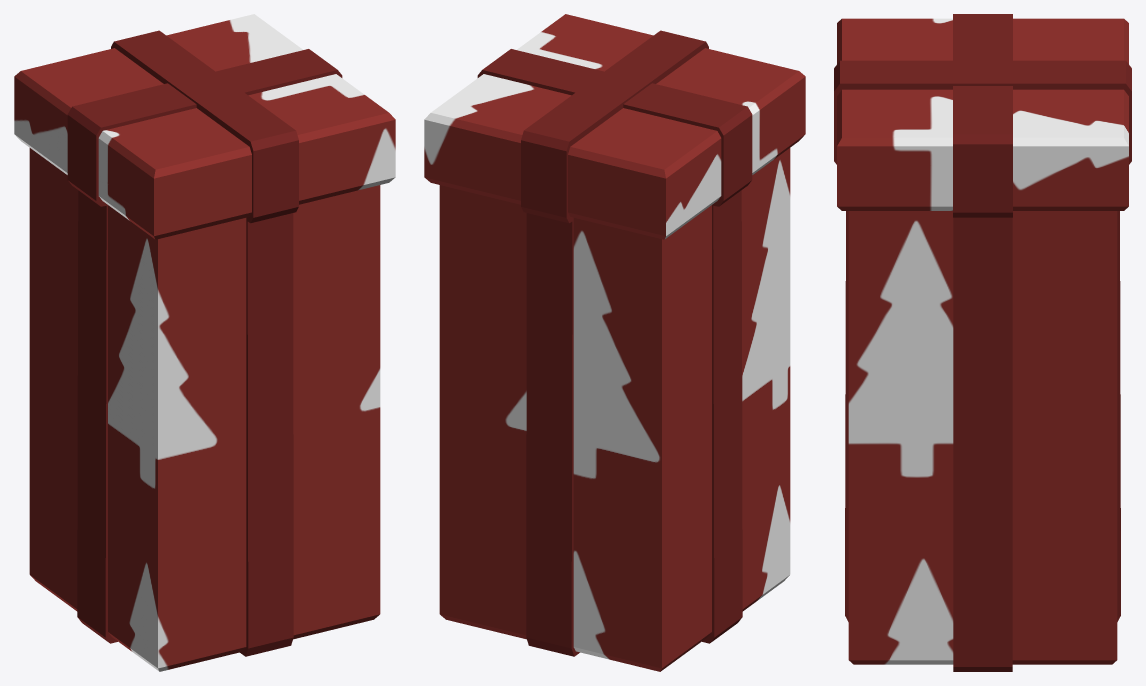
Rendered from PresentBox_Rectangle_Tall_01.fbx.
The picture shows the model from 3 angles, left to right: view 1: azimuth 30°, elevation 25°; view 2: azimuth 150°, elevation 25°; view 3: azimuth 270°, elevation 25°; orthographic projection. The views are drawn at different scales.
Parts seen in each view (by area): view 1: PresentBox_Rectangle_Tall_01, PresentBox_Rectangle_Tall_01_Top; view 2: PresentBox_Rectangle_Tall_01, PresentBox_Rectangle_Tall_01_Top; view 3: PresentBox_Rectangle_Tall_01, PresentBox_Rectangle_Tall_01_Top.
Boxes of the visible parts, bbox=[...] form: PresentBox_Rectangle_Tall_01: bbox=[29, 148, 380, 671]; PresentBox_Rectangle_Tall_01_Top: bbox=[14, 14, 395, 239]; PresentBox_Rectangle_Tall_01: bbox=[439, 148, 790, 671]; PresentBox_Rectangle_Tall_01_Top: bbox=[424, 14, 805, 239]; PresentBox_Rectangle_Tall_01: bbox=[845, 211, 1120, 671]; PresentBox_Rectangle_Tall_01_Top: bbox=[834, 14, 1131, 217].
Size of the model in its own units: 0.1744 by 0.3526 by 0.1749.
